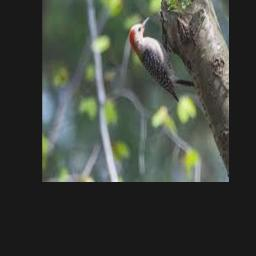Woodpecker: (130, 15, 195, 101)
